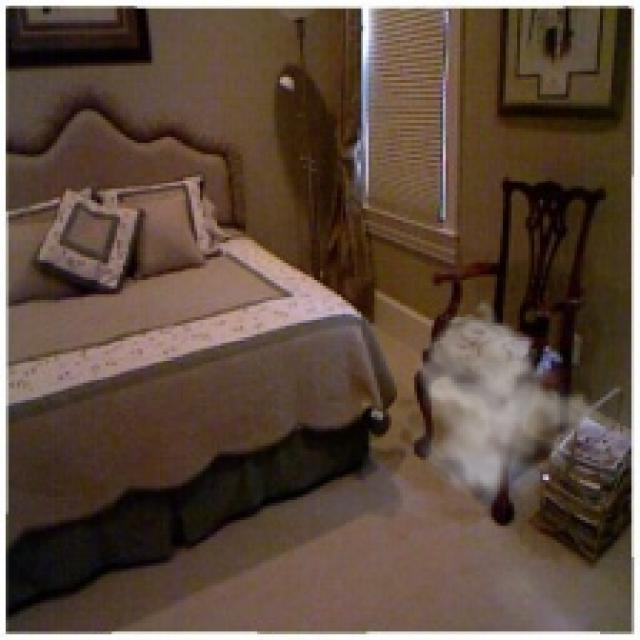Smoke: (397, 297, 609, 506)
